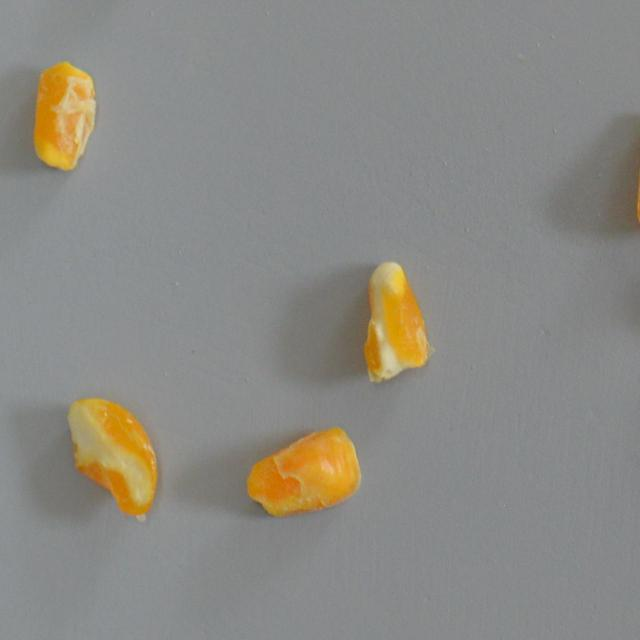pelicula: (62, 374, 165, 534), (245, 424, 363, 522), (23, 48, 108, 176), (358, 256, 436, 391), (618, 96, 640, 254)
